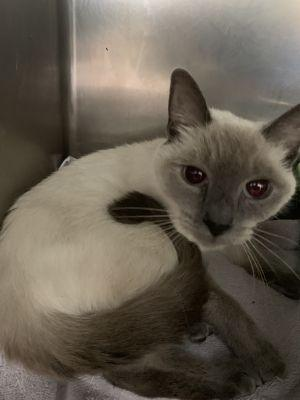siamese: (134, 64, 300, 268)
